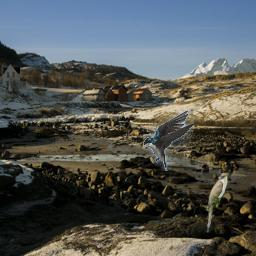Cuckoo: (206, 171, 230, 233)
Swallow: (143, 110, 194, 171)
